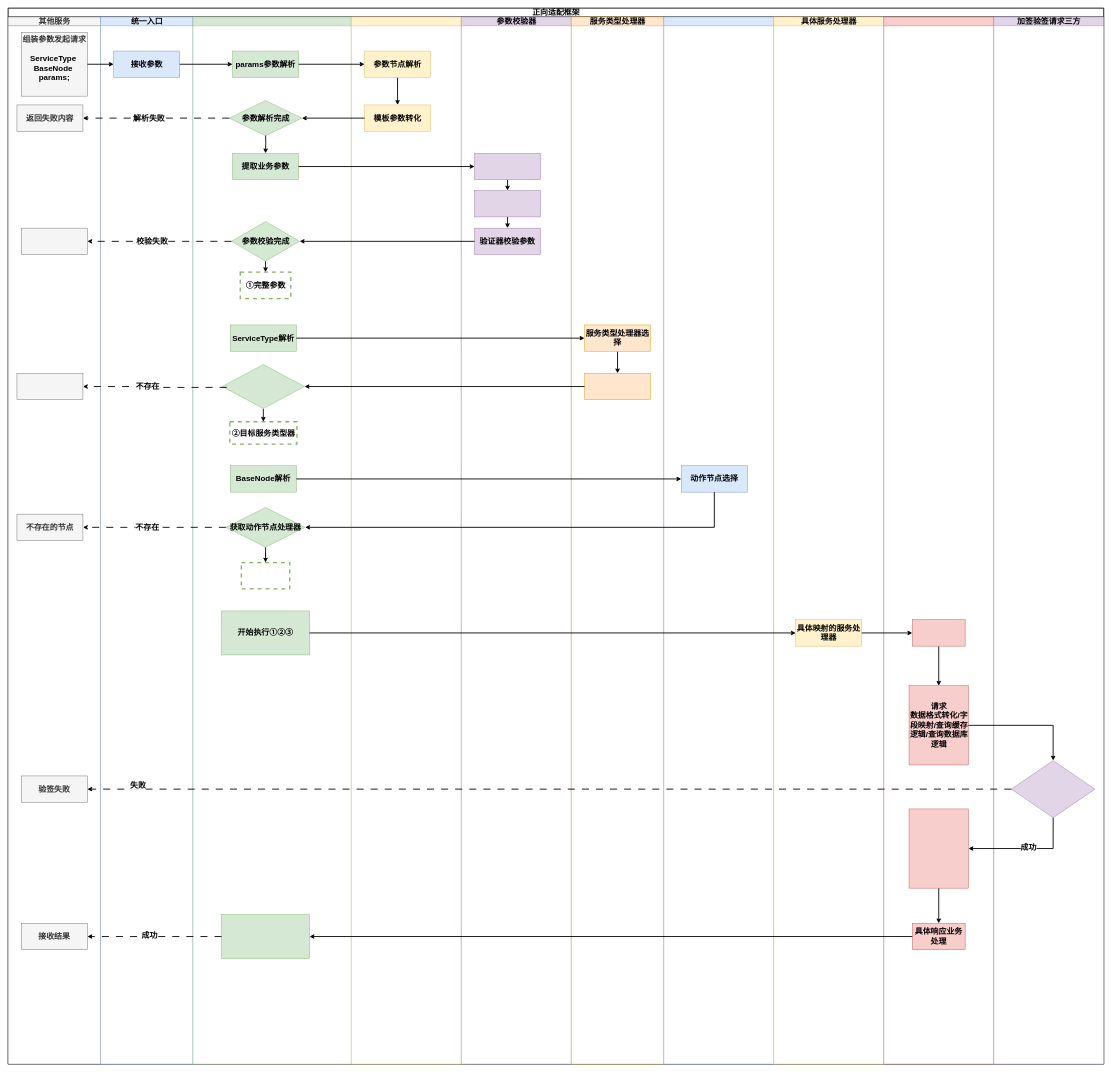
The diagram is 1111 pixels wide and 1072 high, and some of its shapes have lost their labels. Here are the shapes that lost their labels. From the top down, the box of each, then its label:
(474, 153, 541, 180): 获取校验分组
(474, 190, 541, 217): 根据分组选择验证器
(21, 228, 87, 255): 返回校验失败提示
(16, 373, 83, 400): 不存在的服务
(222, 364, 305, 409): 获取服务类型处理器
(584, 373, 651, 400): 分类服务类型处理器选择
(192, 16, 351, 1064): 统一处理工厂
(351, 16, 461, 1064): 节点参数解析器
(663, 16, 774, 1064): 动作节点处理器
(883, 16, 994, 1064): 具体业务服务处理
(240, 562, 290, 589): ③节点处理器
(912, 619, 965, 646): 具体请求业务处理
(1011, 760, 1095, 818): 加签请求/验签解析数据
(909, 808, 968, 888): 响应数据处理 数据格式转化/字段映射/查询缓存逻辑/查询数据库逻辑
(221, 914, 310, 959): 同步返回结果
